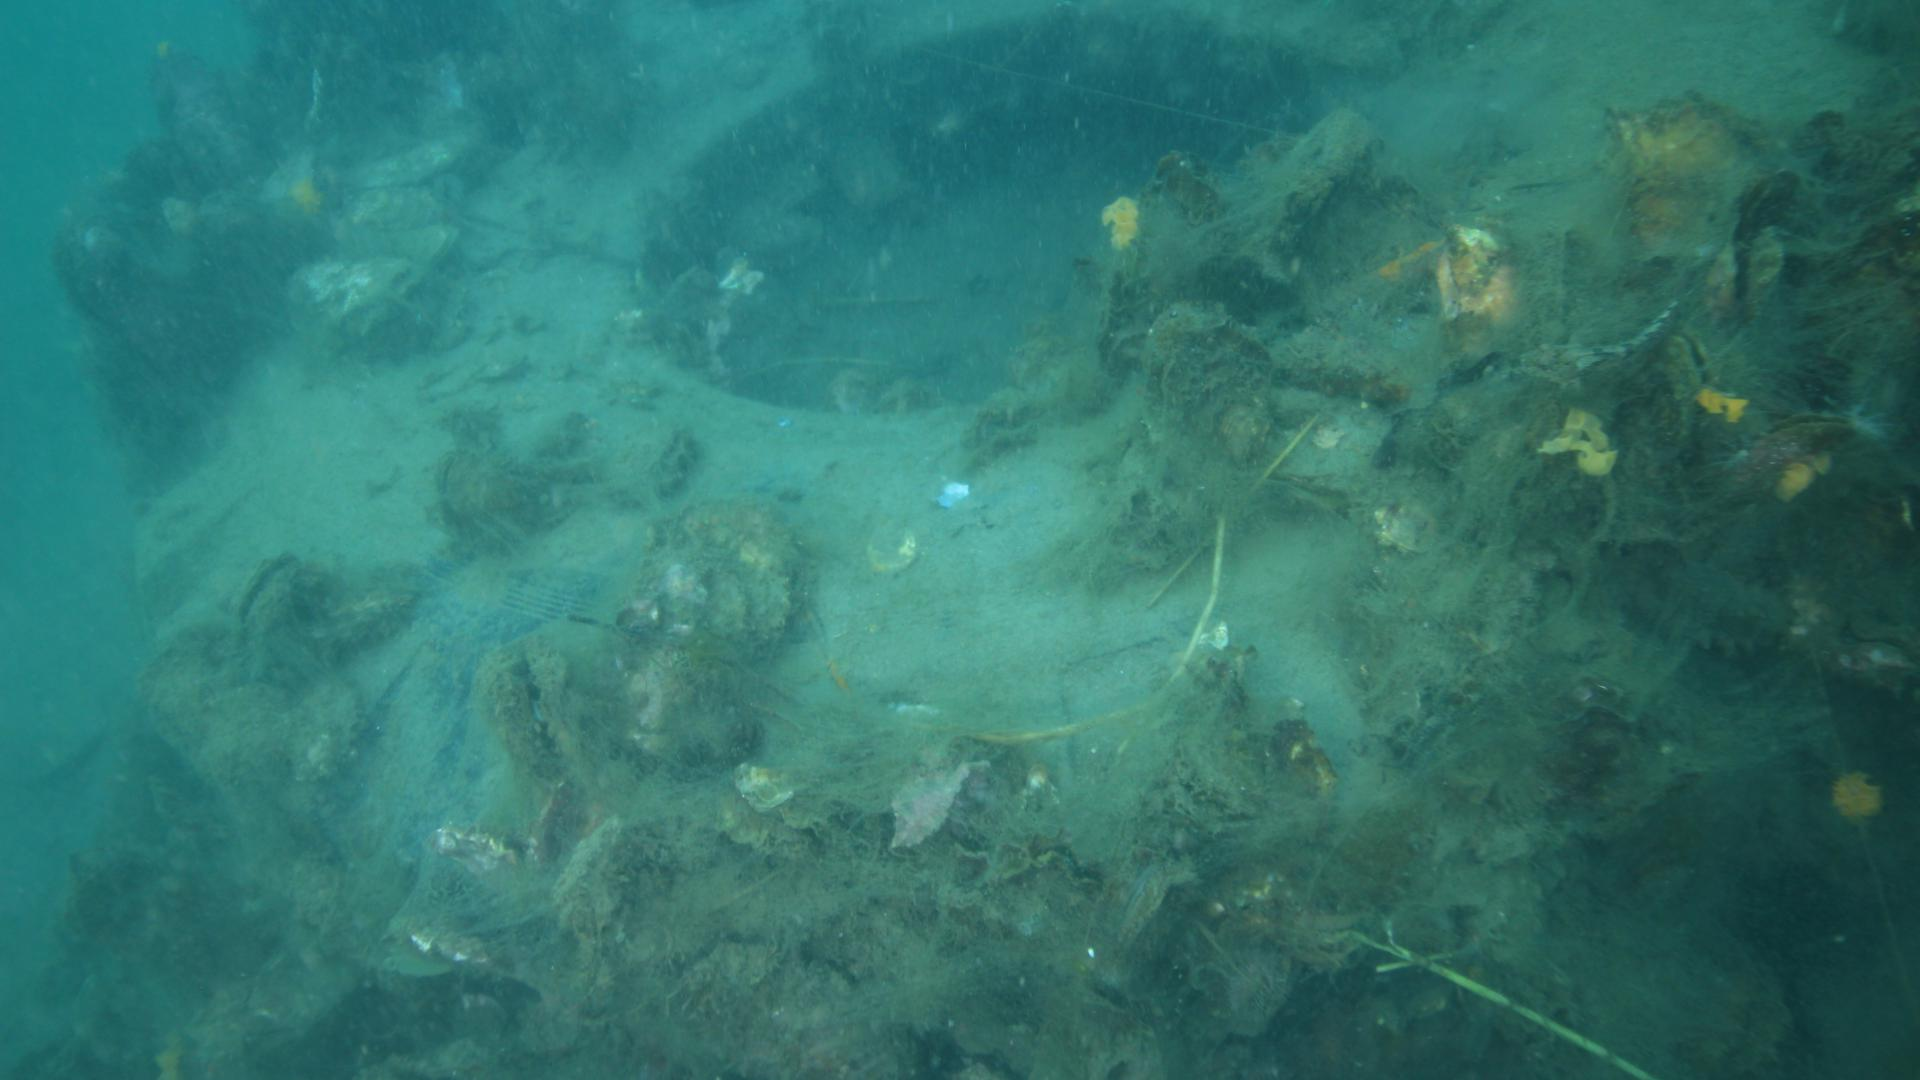tire: (131, 3, 1920, 1080)
